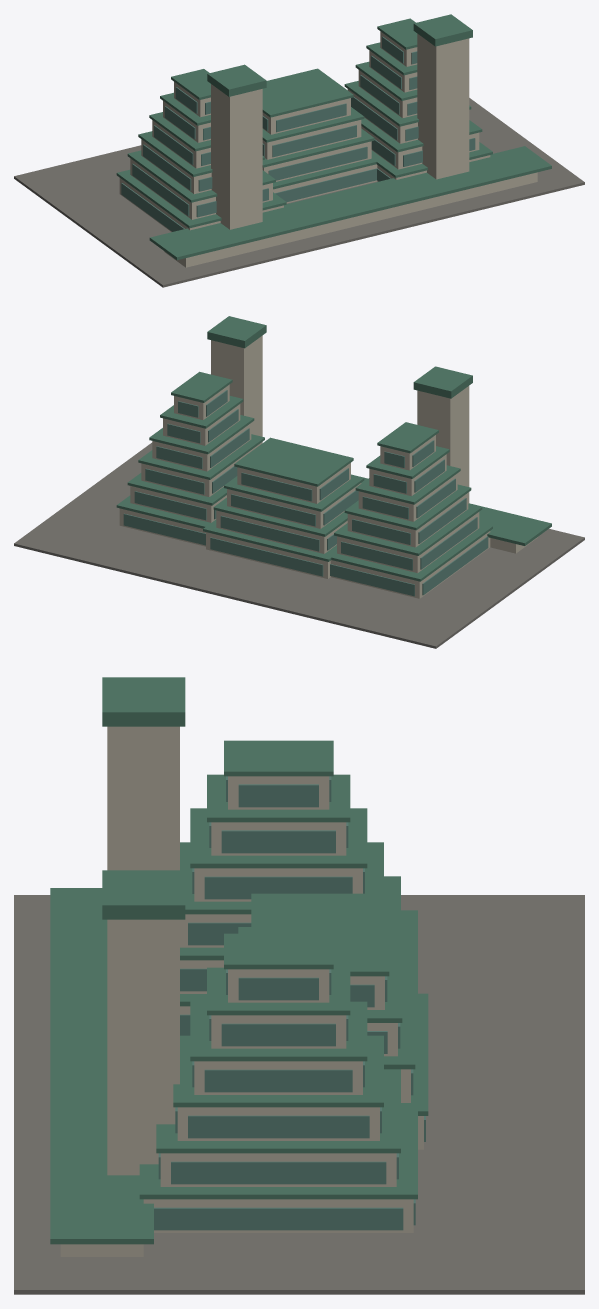
File: sis_building.glb
The picture shows the model from 3 angles, top to bottom: view 1: azimuth 30°, elevation 25°; view 2: azimuth 150°, elevation 25°; view 3: azimuth 270°, elevation 25°; orthographic projection. The views are drawn at different scales.
Parts seen in each view (by area): view 1: sis_building; view 2: sis_building; view 3: sis_building.
Part boxes in pixels (left/top/right/bottom): sis_building: left=14, top=14, right=584, bottom=287; sis_building: left=14, top=316, right=584, bottom=648; sis_building: left=14, top=677, right=584, bottom=1294.
Size of the model in its own units: 180 by 65 by 110.
